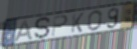9: (106, 7, 120, 29)
A: (13, 19, 34, 43)
K: (70, 12, 86, 34)
O: (87, 10, 103, 32)
P: (50, 14, 68, 38)
S: (34, 16, 52, 40)
